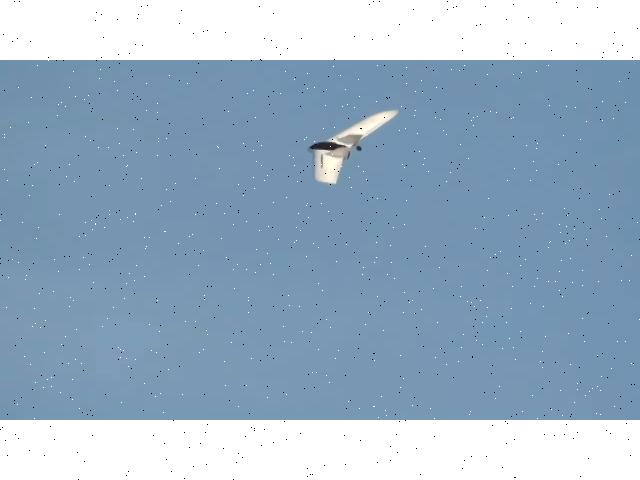Anti-Drone: (308, 111, 400, 183)
